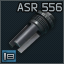SilencerCo ASR 51T 5.56x45 flash hider: (0, 0, 64, 64)
